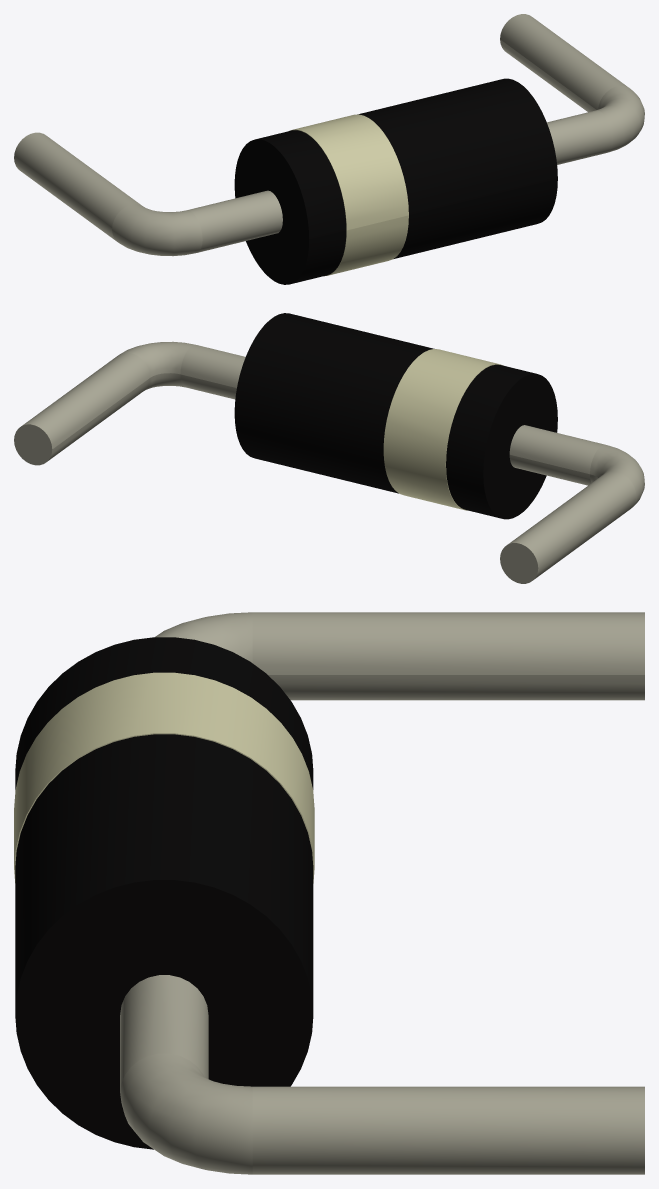
The model's file is d_do-41_sod81_p10.16mm_horizontal.glb.
3 renders of one model, top to bottom at view 1: azimuth 30°, elevation 25°; view 2: azimuth 150°, elevation 25°; view 3: azimuth 270°, elevation 25°, orthographic. The views are drawn at different scales.
Parts seen in each view (by area): view 1: D_DO-41_SOD81_P10.16mm_Horizontal; view 2: D_DO-41_SOD81_P10.16mm_Horizontal; view 3: D_DO-41_SOD81_P10.16mm_Horizontal.
Part boxes in pixels (bbox=[...]): D_DO-41_SOD81_P10.16mm_Horizontal: bbox=[14, 14, 644, 284]; D_DO-41_SOD81_P10.16mm_Horizontal: bbox=[14, 313, 644, 583]; D_DO-41_SOD81_P10.16mm_Horizontal: bbox=[14, 612, 644, 1174].
Bounding box in the file's own units: 10.96 × 2.71 × 5.71.
